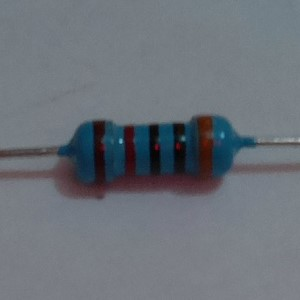black_band: (171, 121, 188, 177), (147, 121, 162, 178)
brown_band: (92, 118, 108, 189)
orange_band: (196, 113, 215, 180)
red_band: (121, 123, 138, 179)
